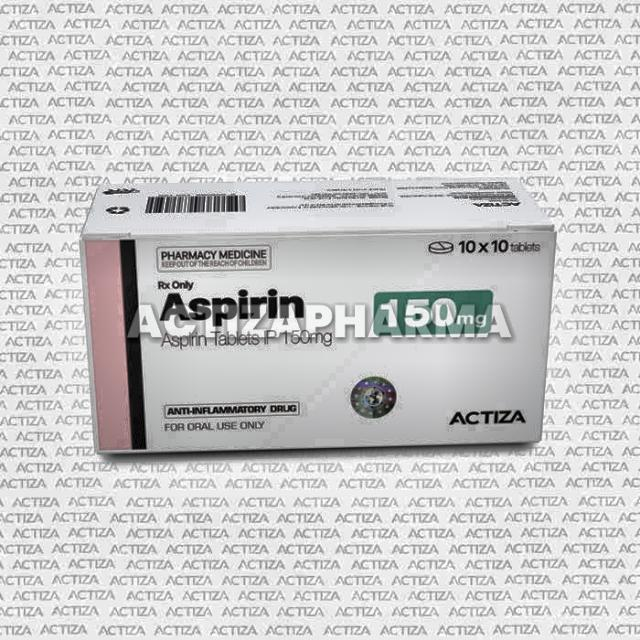Aspirin: (84, 234, 552, 452)
